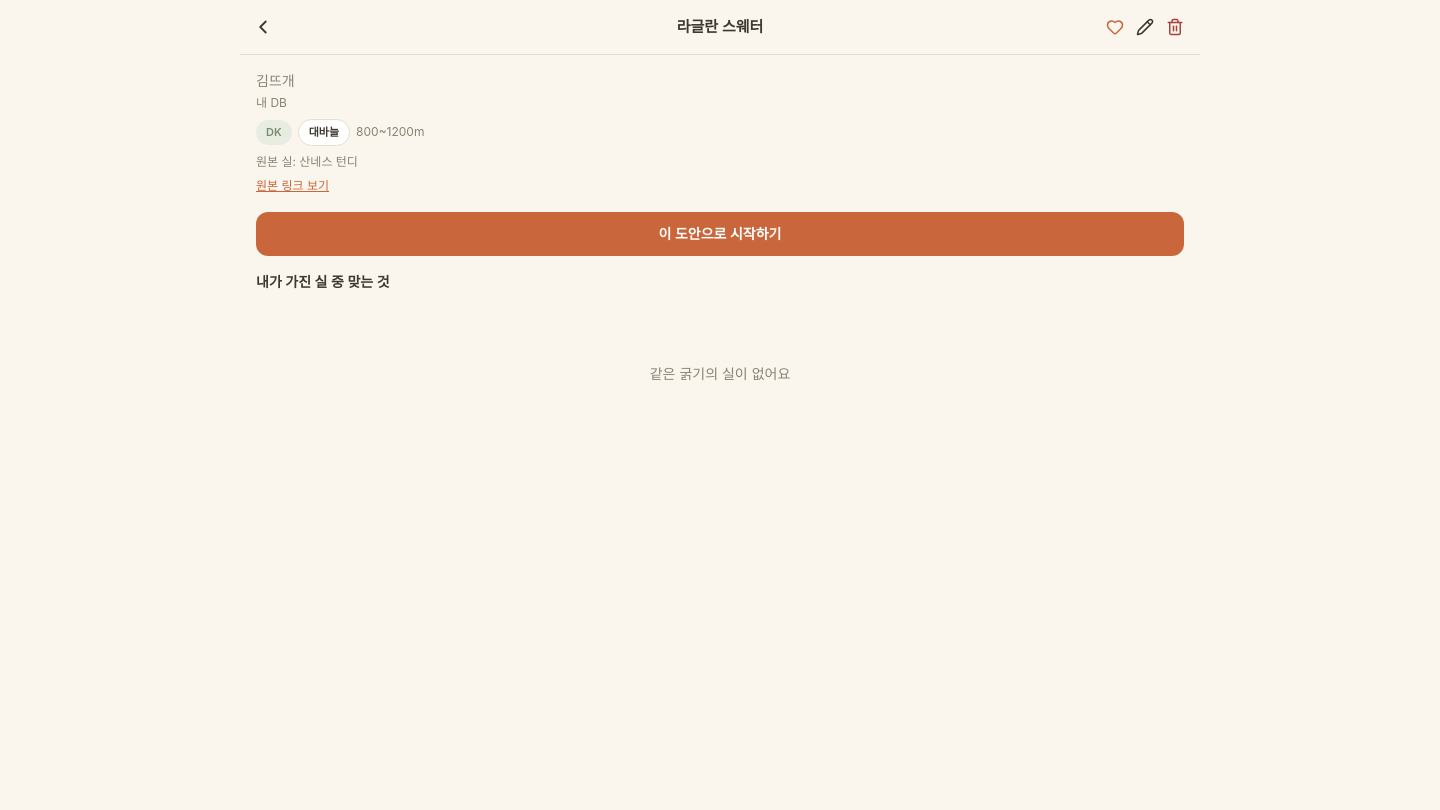
Test: PatternDetailPage 수정·삭제 권한 › 삭제가 거부되면 사유를 토스트로 보여주고 화면에 남는다
Click the button named "삭제".
click(1175, 27)  # box [1162,14,1188,40]
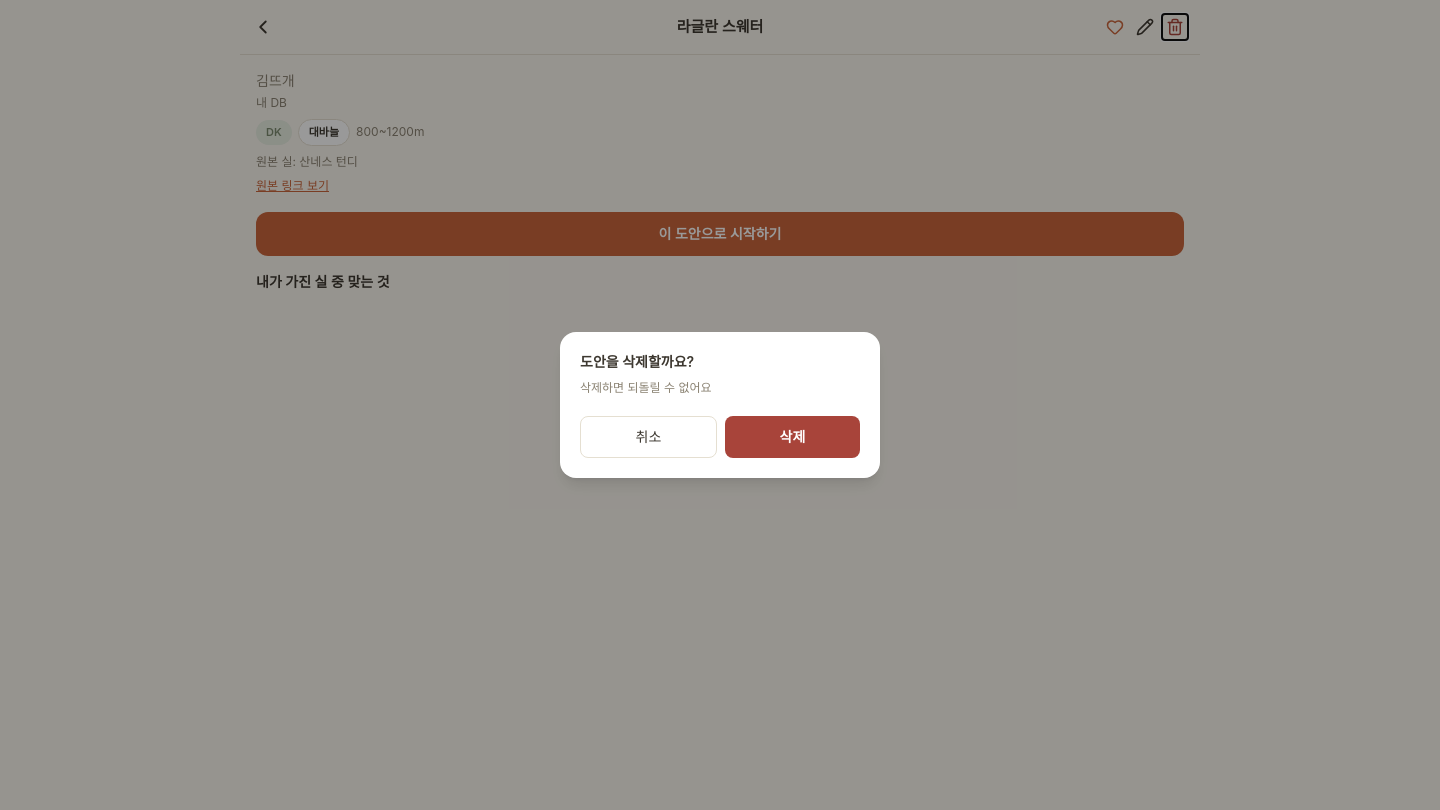
Click the button "삭제".
click(792, 437)  # box [725,416,860,458]
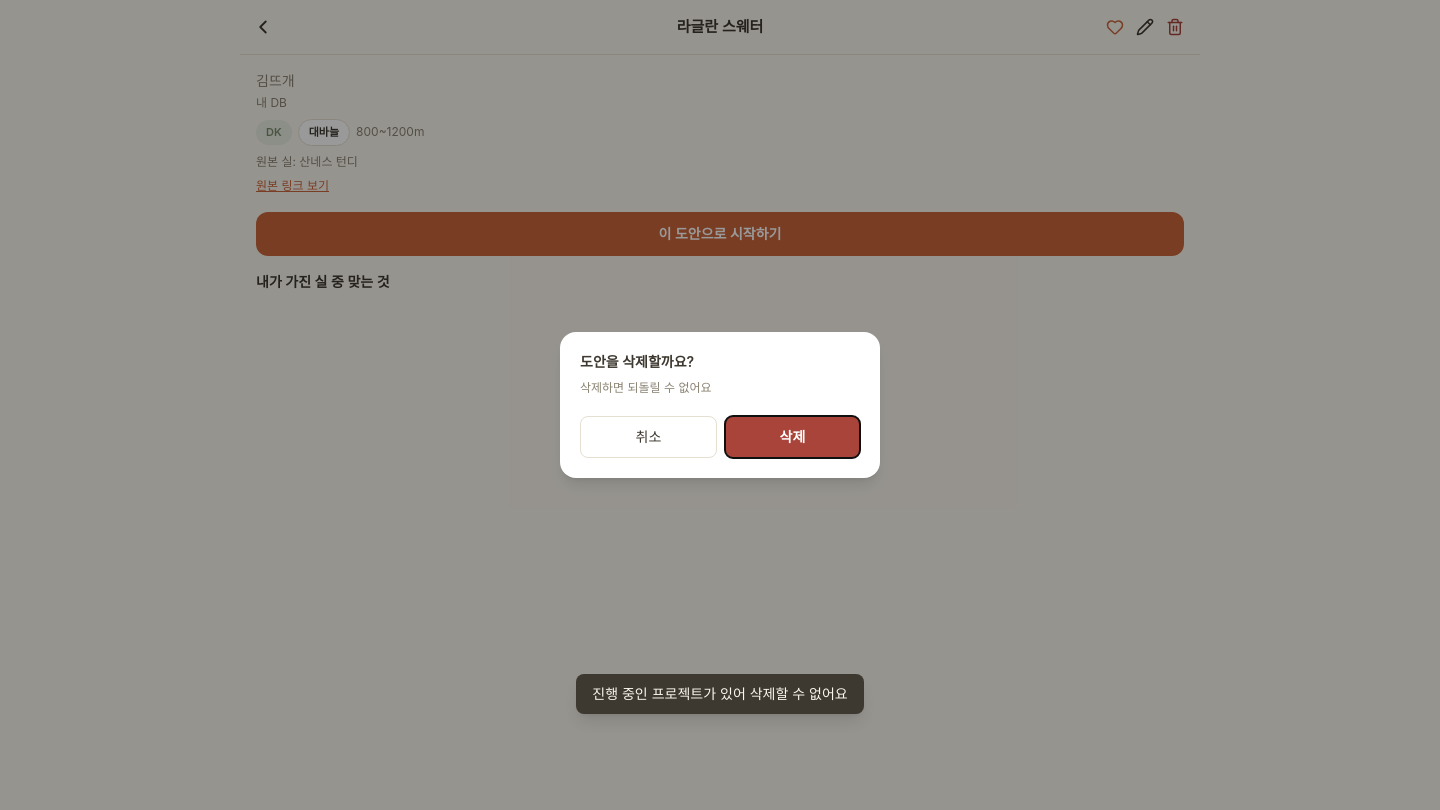
Expected: the message reads "진행 중인 프로젝트가 있어 삭제할 수 없어요", [592,685,848,702]
